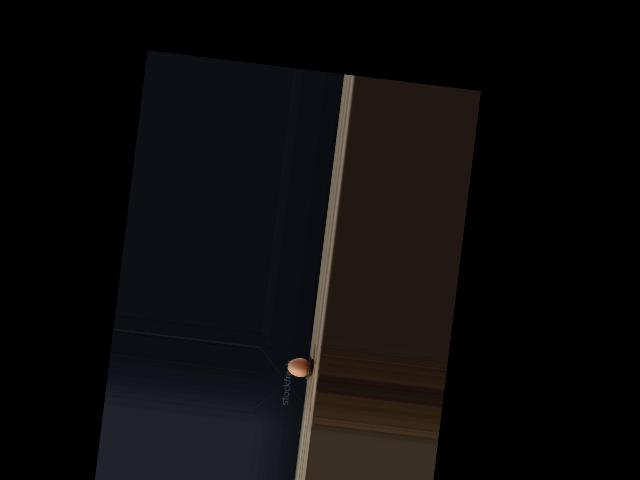egg: (286, 356, 309, 377)
